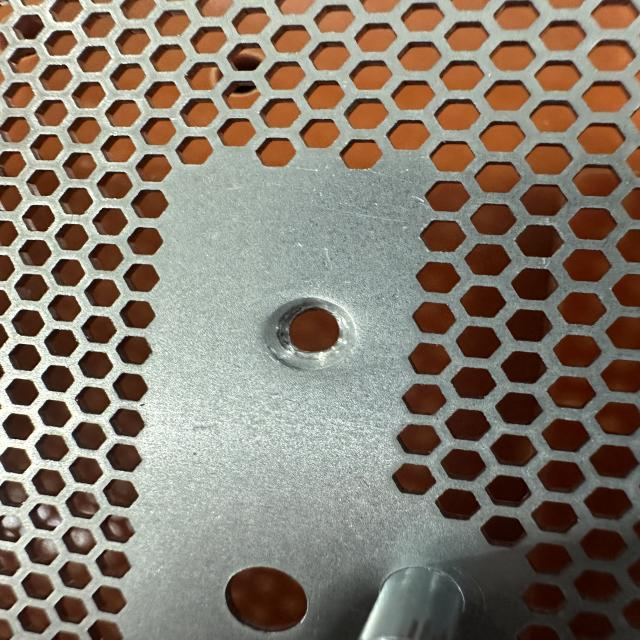Missing screw: (252, 286, 362, 373)
